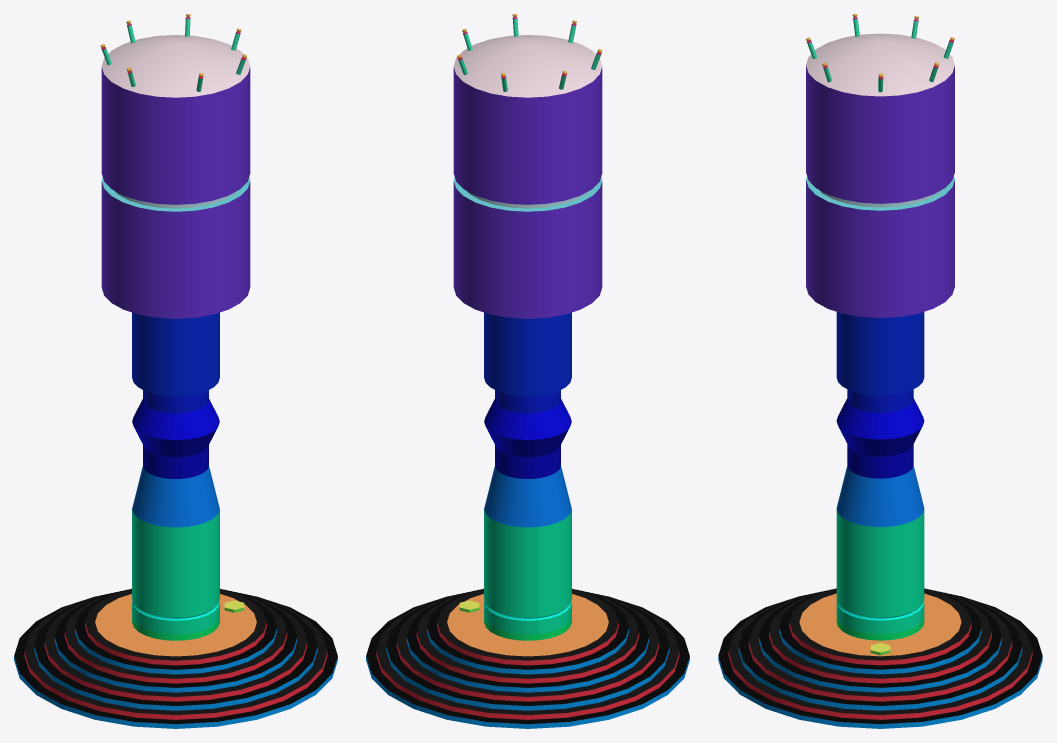
Rendered from Iteration2Color.fbx.
3 views of the same model, side by side, from view 1: azimuth 30°, elevation 25°; view 2: azimuth 150°, elevation 25°; view 3: azimuth 270°, elevation 25° (orthographic).
Parts seen in each view (by area): view 1: Model; view 2: Model; view 3: Model.
Boxes of the visible parts, x1,y1,x2,y2 form: Model: [14, 14, 337, 728]; Model: [366, 14, 689, 728]; Model: [718, 14, 1042, 728].
Size of the model in its own units: 333 by 700 by 333.
